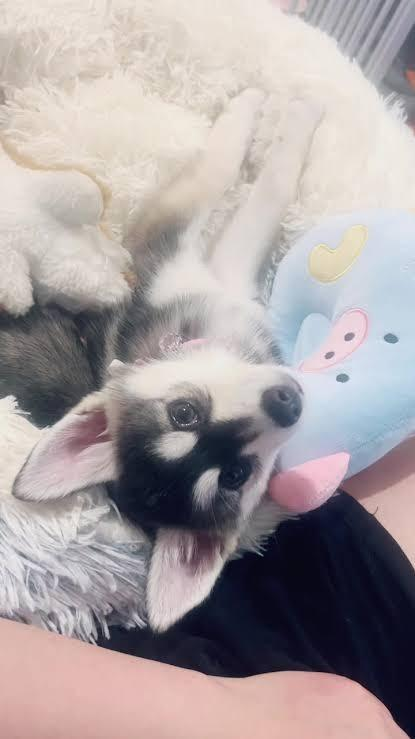puppy-dog: (1, 91, 308, 632)
